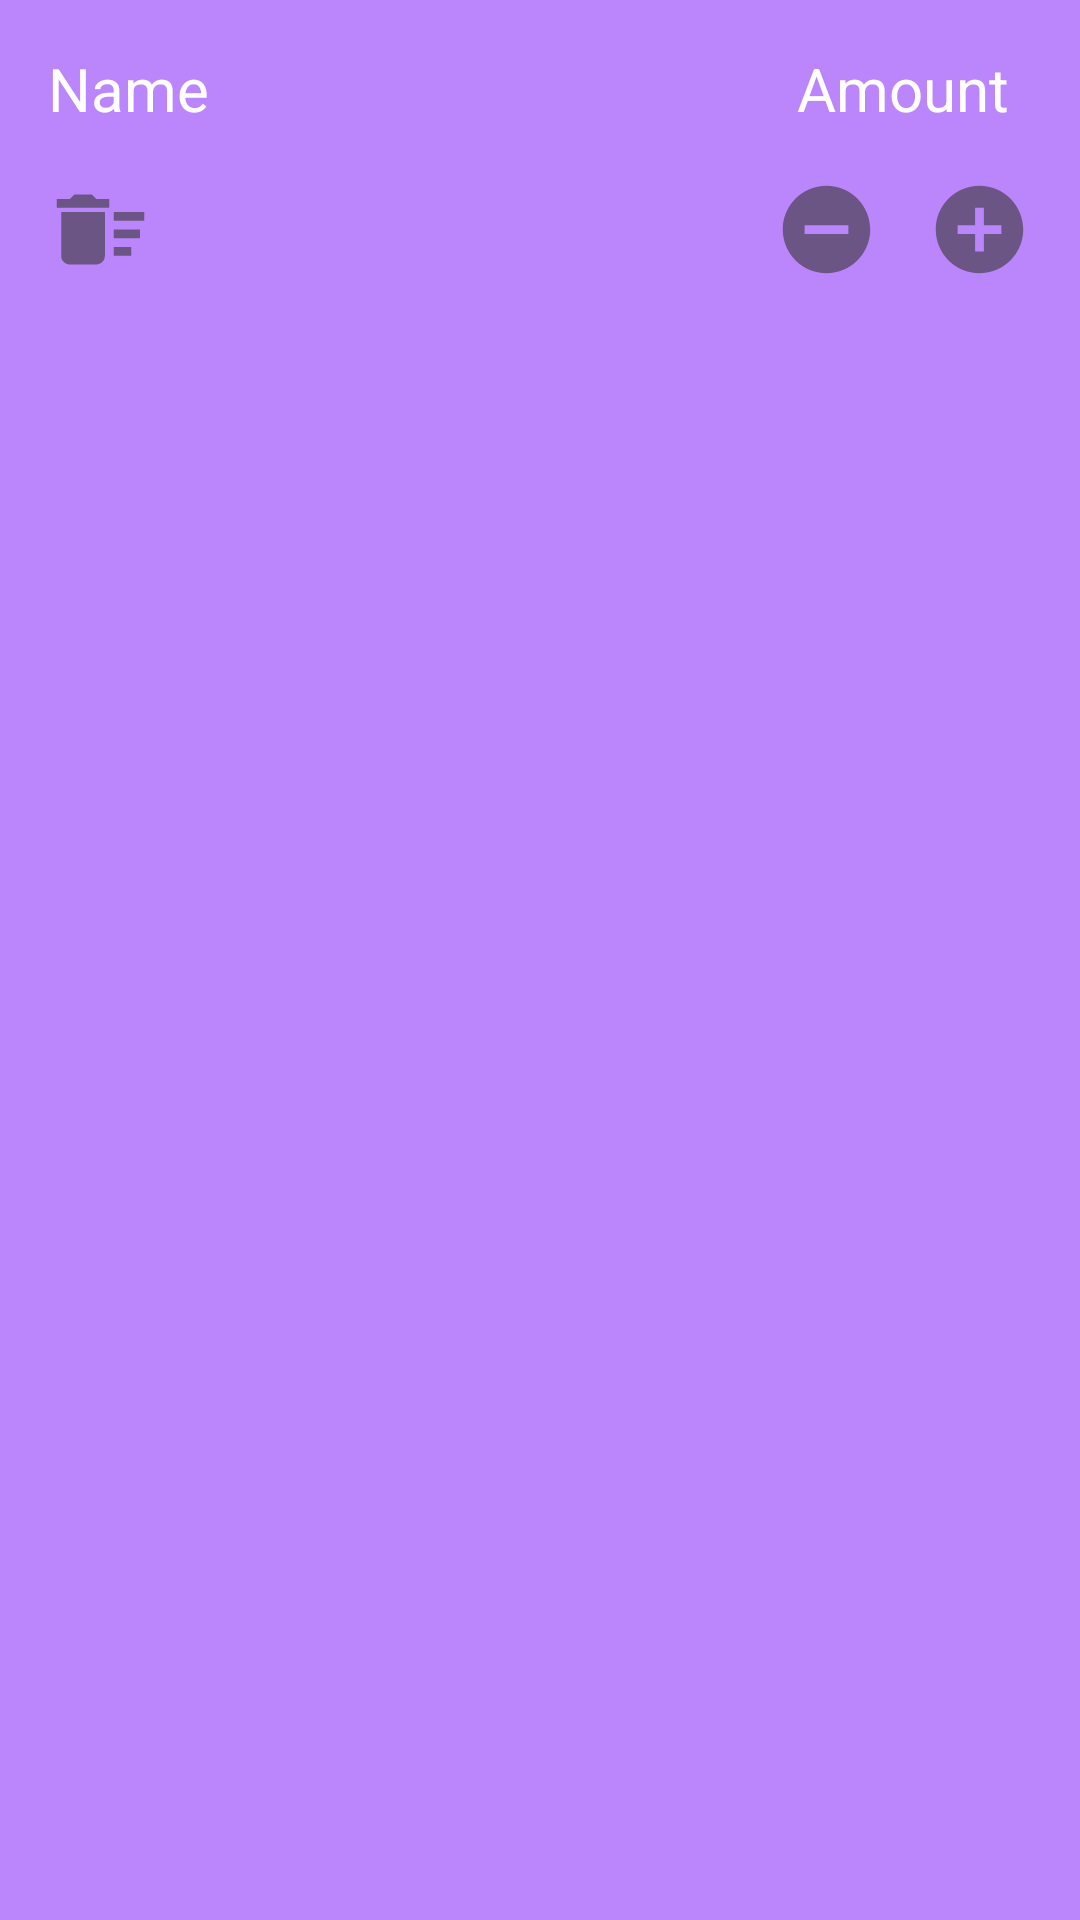

Point at icon controls on the screen. Image size 1080x1920, points as (x,y).
add: (979,229)
delete: (100,229)
minus: (826,229)
